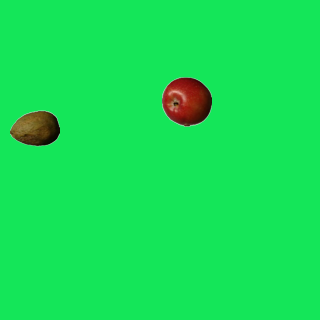Apple Braeburn: (161, 76, 211, 126)
Papaya: (9, 103, 59, 153)
